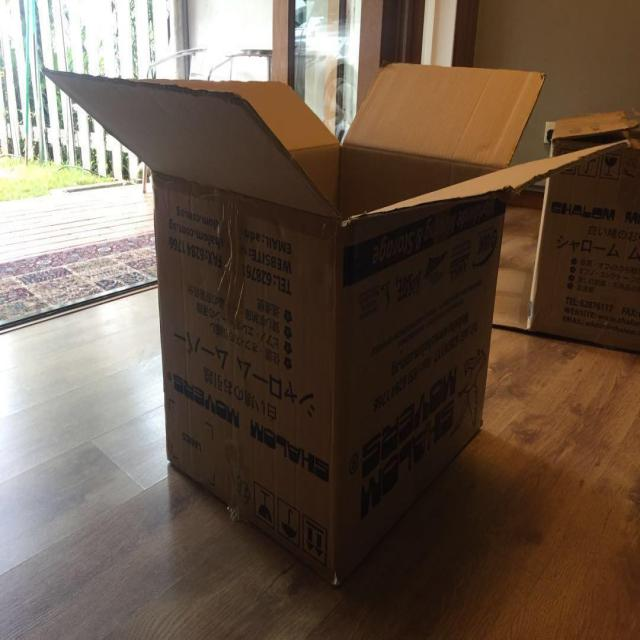cardboard: (40, 61, 630, 593), (524, 102, 640, 357)
